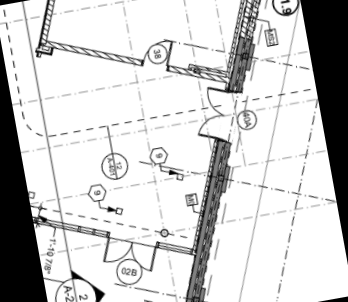double door: (187, 81, 244, 147), (97, 226, 165, 281)
wall: (43, 25, 150, 88), (24, 0, 67, 49)
